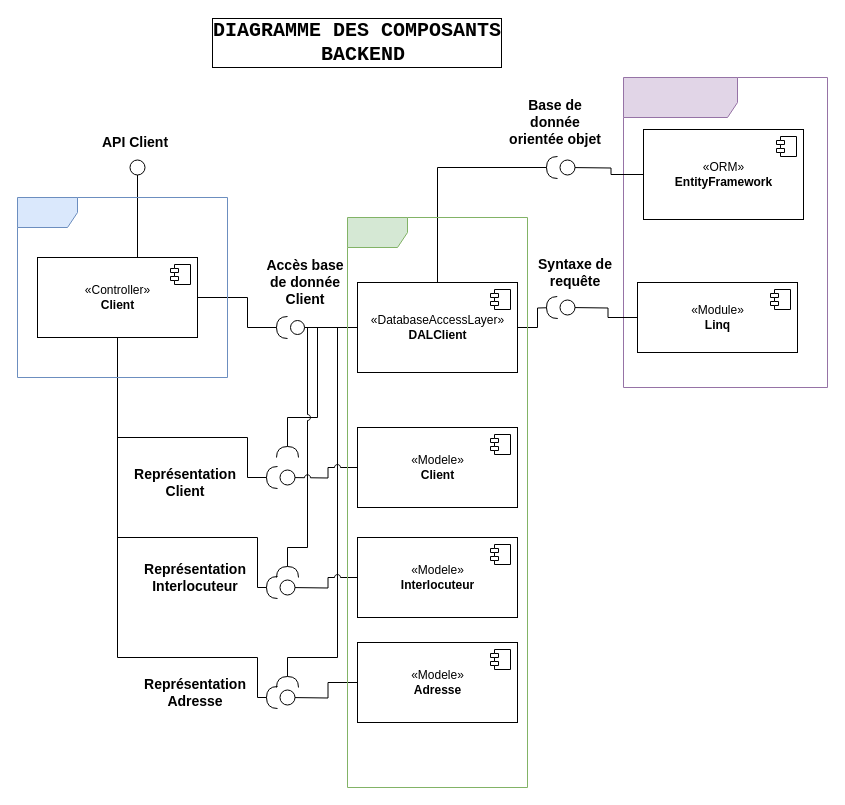
This 845x805 diagram has some shape labels left out. The shapes that lost their labels are listed below. From the top down, each one's box as (x1, y1, x2, y2) in pixels, then its label:
(622, 76, 828, 388): Package externe
(16, 196, 228, 378): Contrôleur
(346, 216, 528, 788): Modèle
